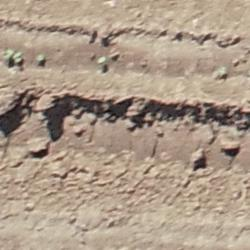cotton: (4, 51, 13, 58), (98, 56, 106, 63), (37, 54, 44, 60), (15, 54, 21, 61), (220, 67, 224, 74)
